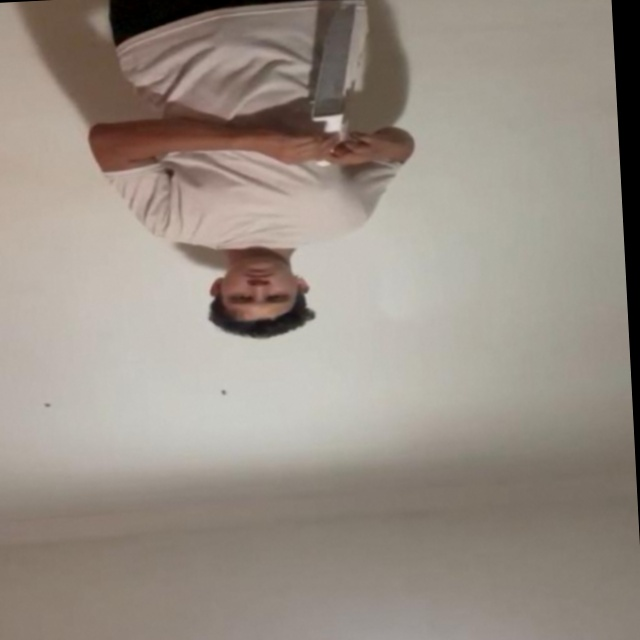Sharp-Object: (302, 5, 367, 119)
